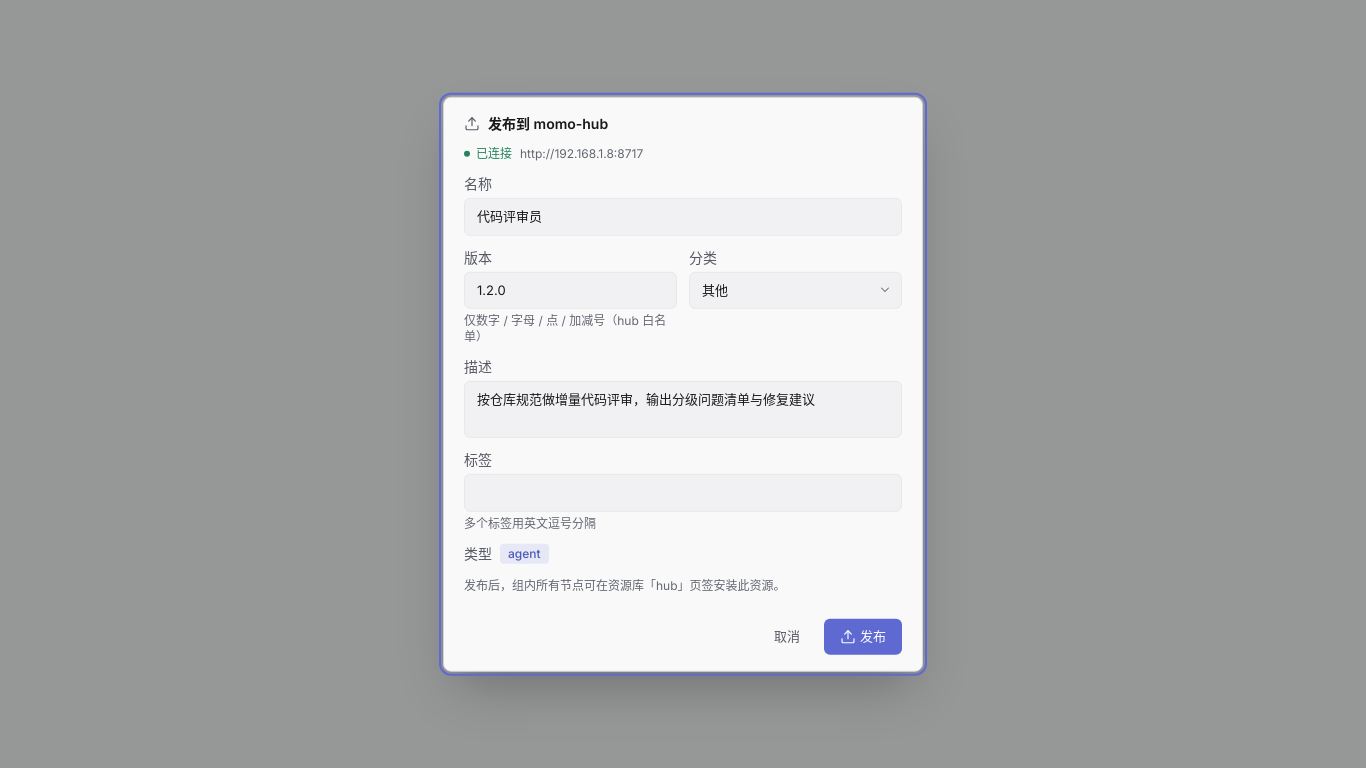
Test: PublishDialog · 表单态 › 版本白名单不通过（含空格）时发布按钮禁用
Replace the text in the field labelled "版本" with "1.0 beta": {"x": 570, "y": 290} 464,271 -> 677,309
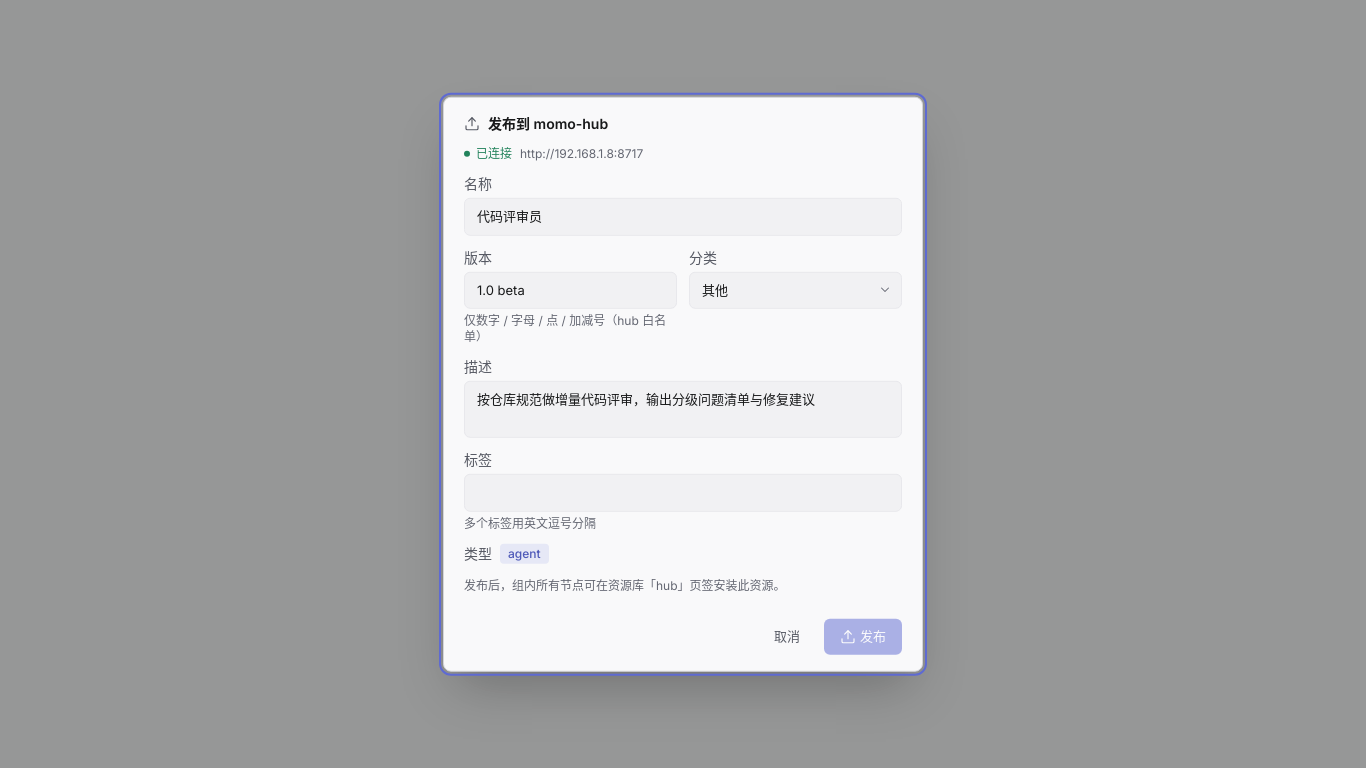
Expected: the button "发布" is disabled, 824,619 -> 902,654
Replace the text in the field labelled "版本" with "1.0.0-beta.1": {"x": 570, "y": 290} 464,271 -> 677,309
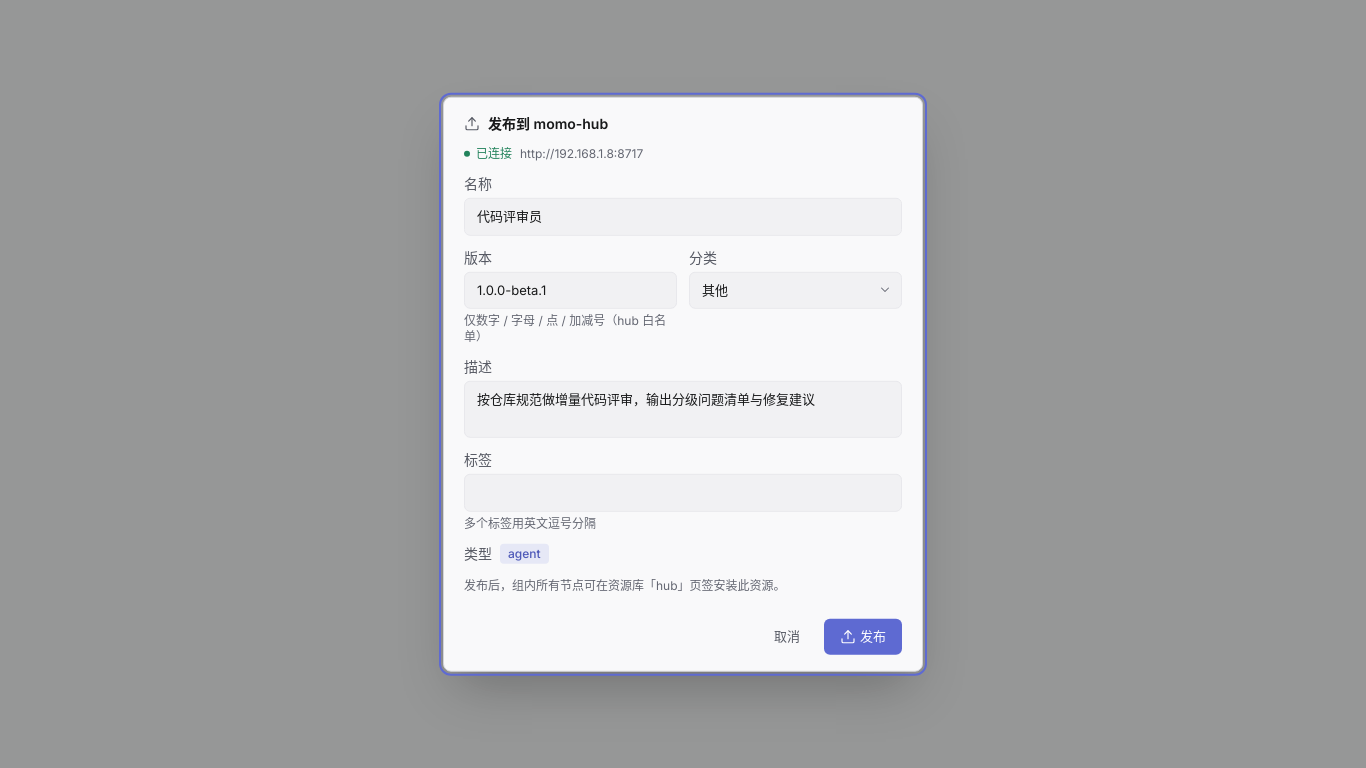
Expected: the button "发布" is enabled, 824,619 -> 902,654
